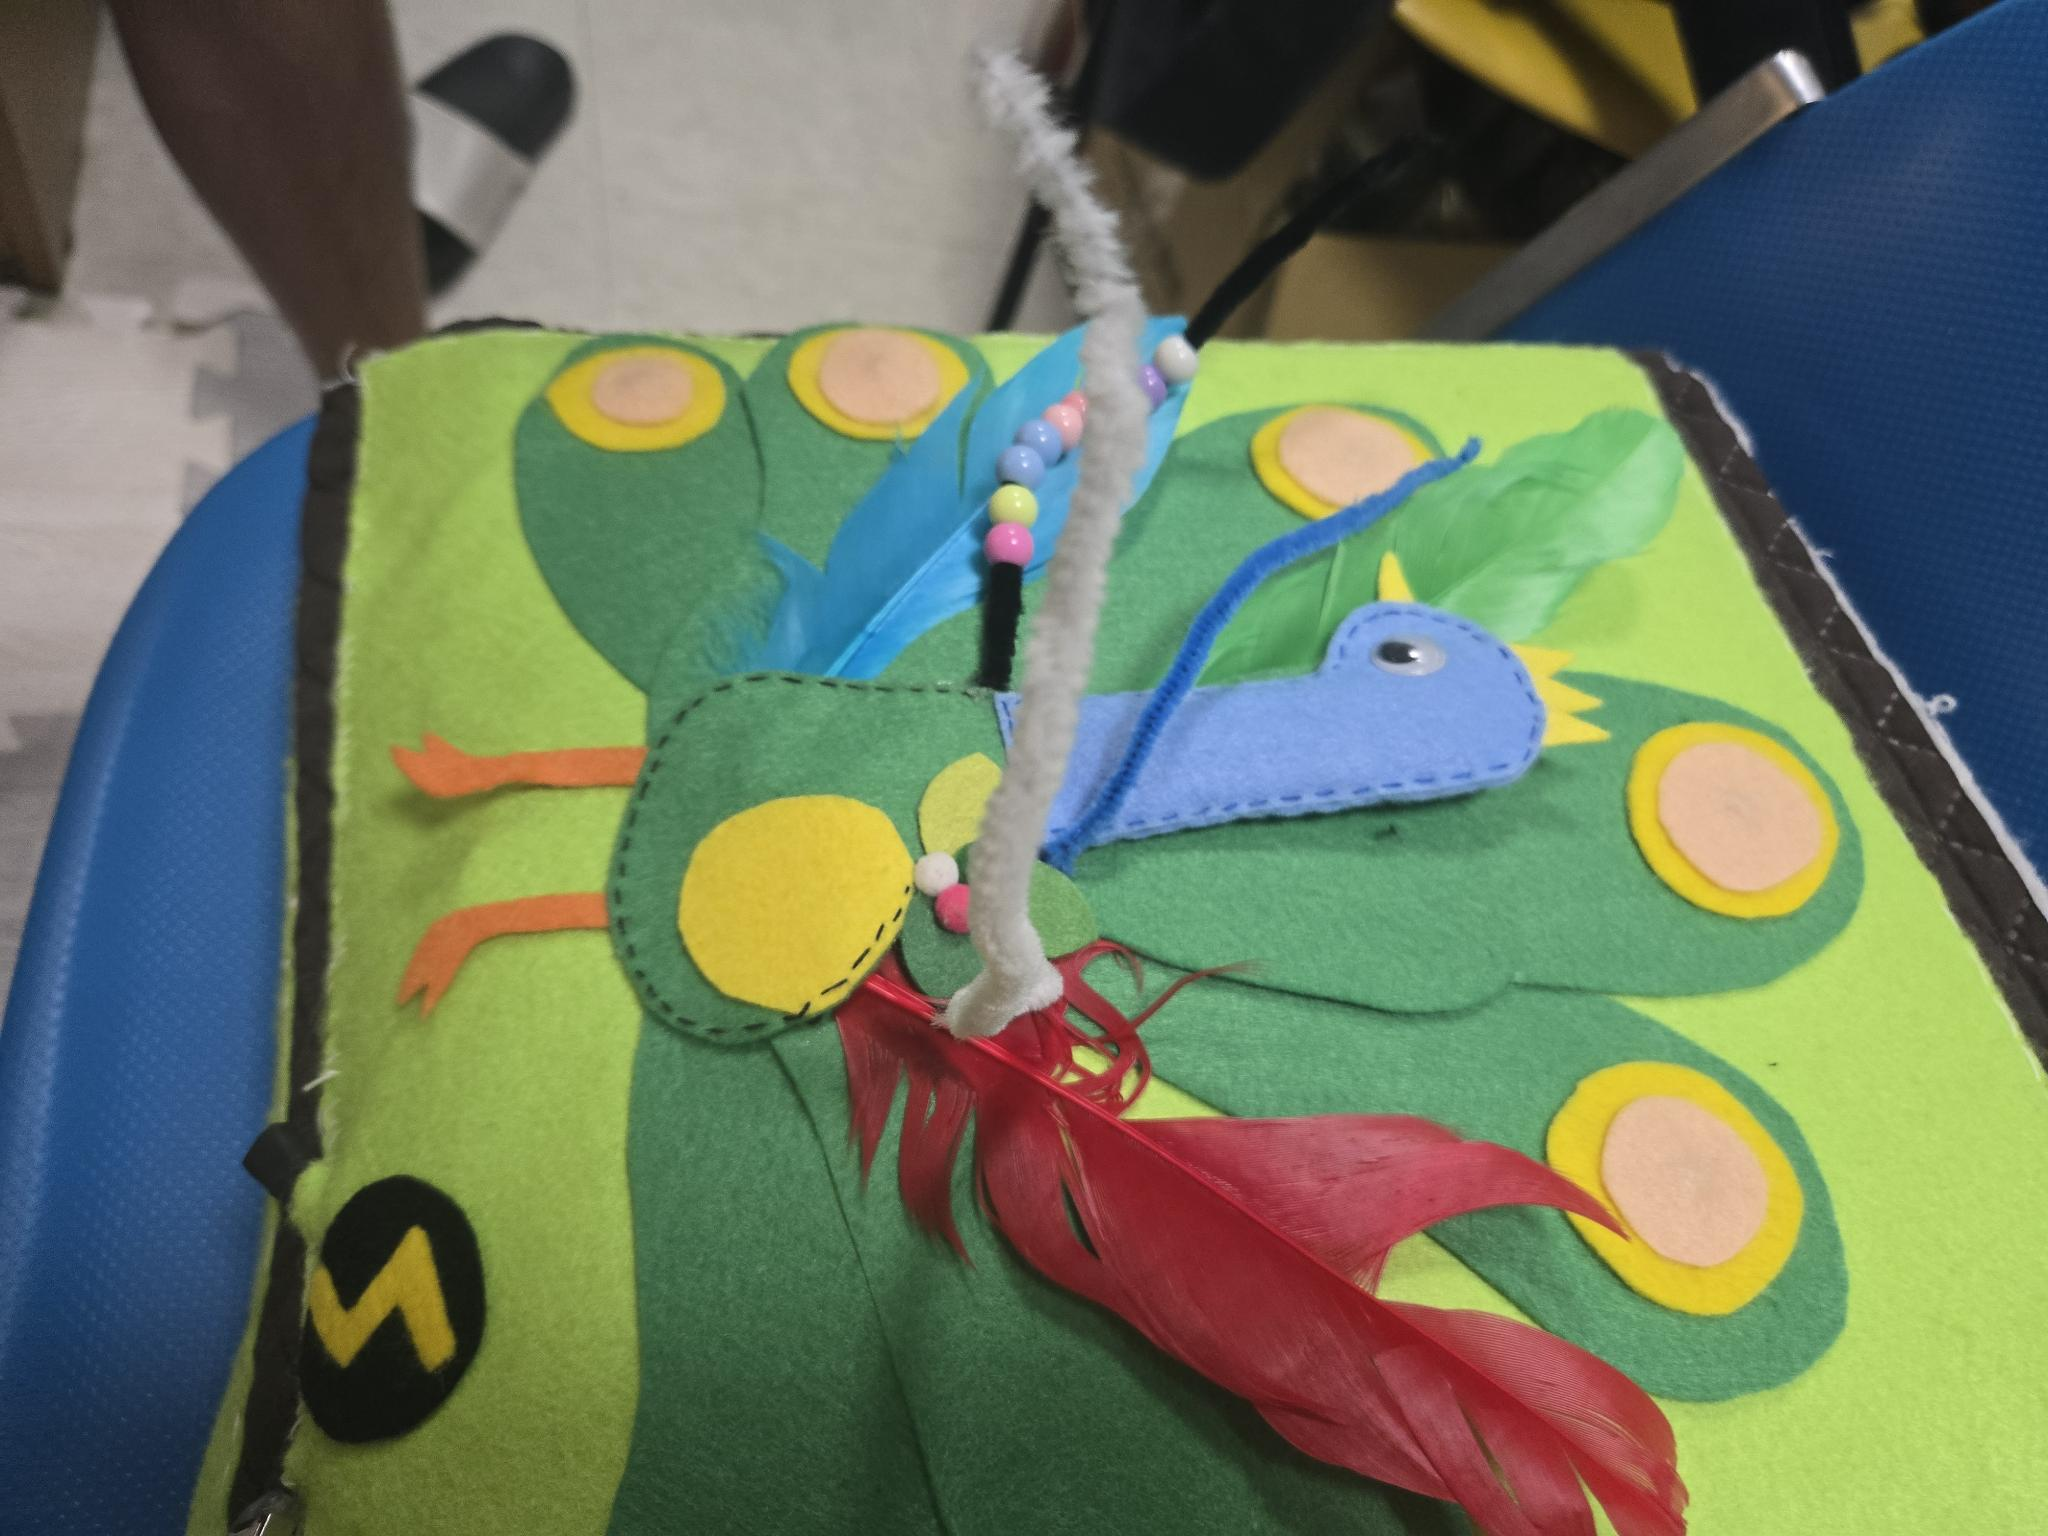bead: (980, 518, 1040, 568), (985, 442, 1040, 481), (980, 487, 1035, 523), (1158, 342, 1198, 384), (1137, 369, 1172, 415), (1053, 400, 1082, 453), (1018, 418, 1055, 457), (1063, 382, 1090, 410)
